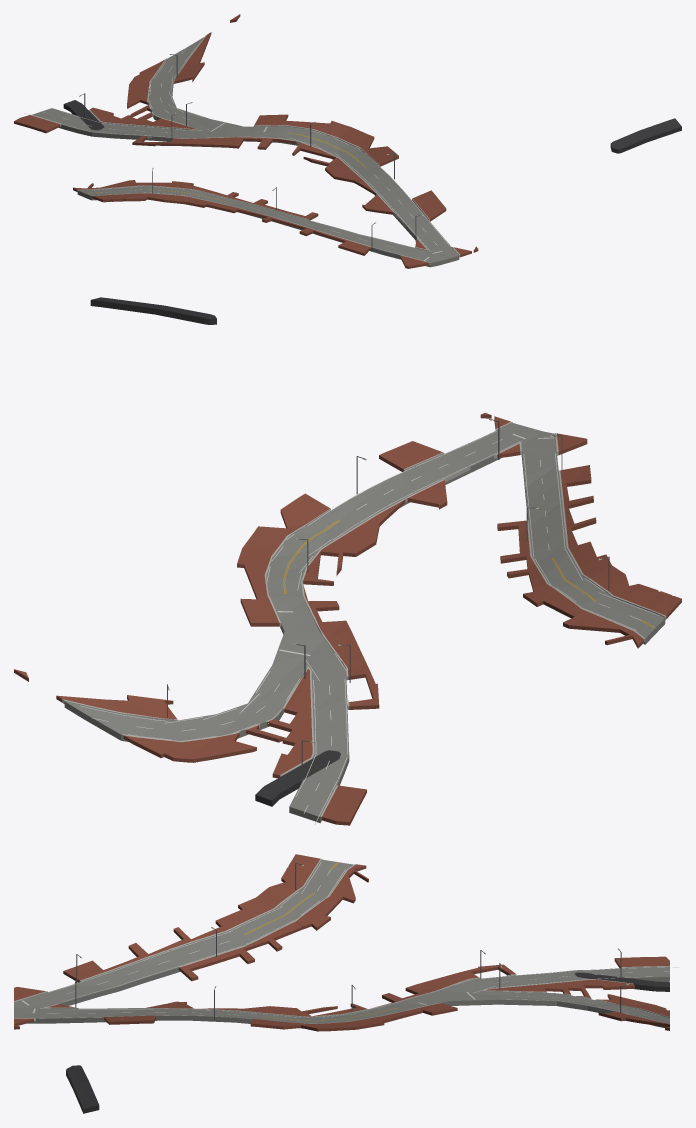
3 views of the same model, one above another, from view 1: azimuth 30°, elevation 25°; view 2: azimuth 150°, elevation 25°; view 3: azimuth 270°, elevation 25° (orthographic). The views are drawn at different scales.
Size of the model in its own units: 147 by 23.67 by 148.
